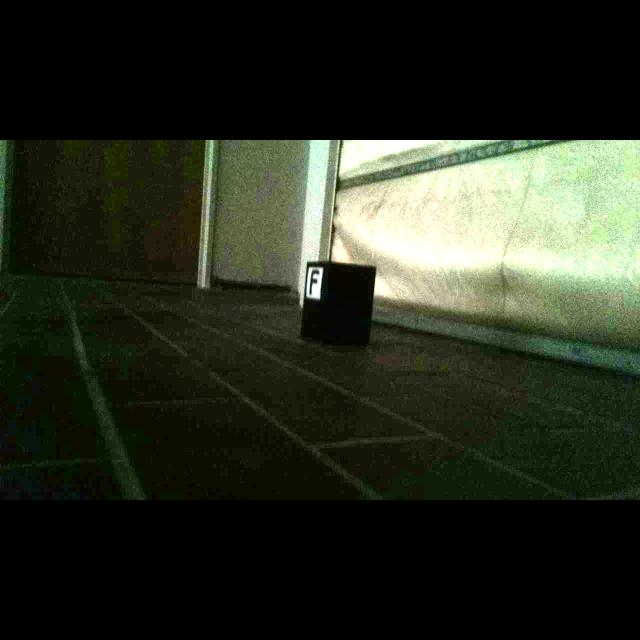F: (309, 269, 320, 295)
